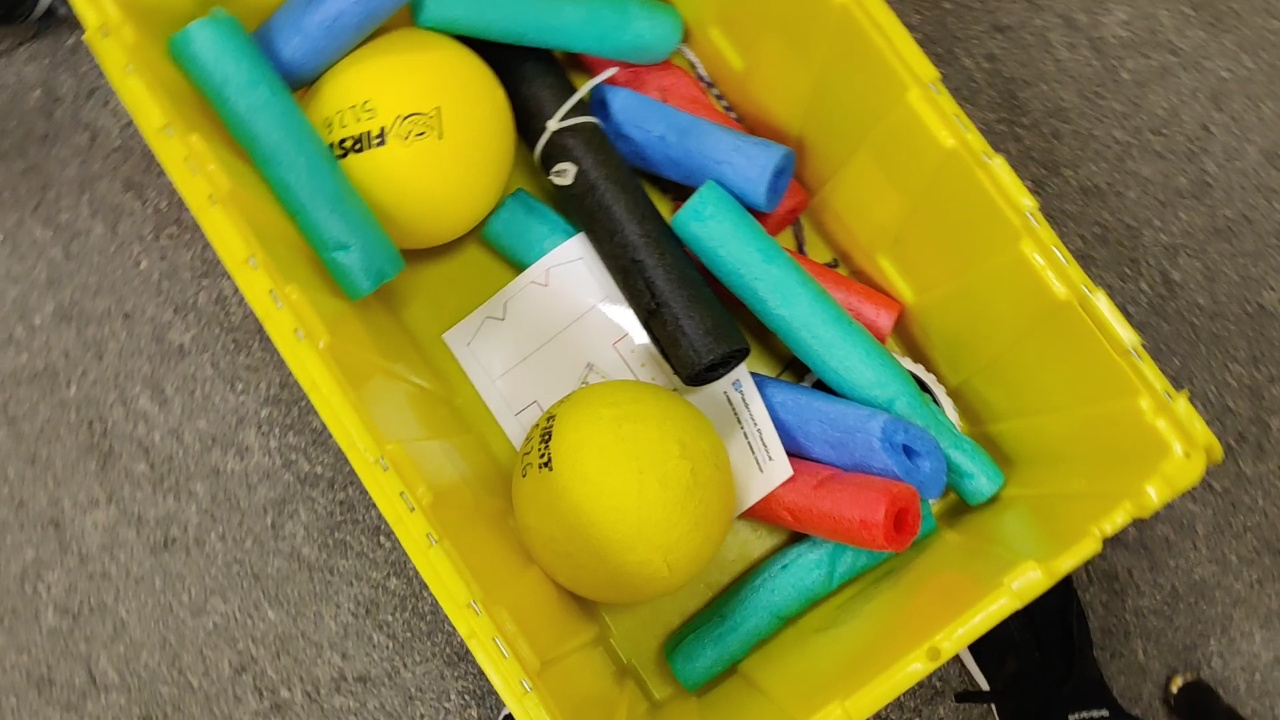Ball: (296, 25, 520, 250), (508, 379, 734, 602)
